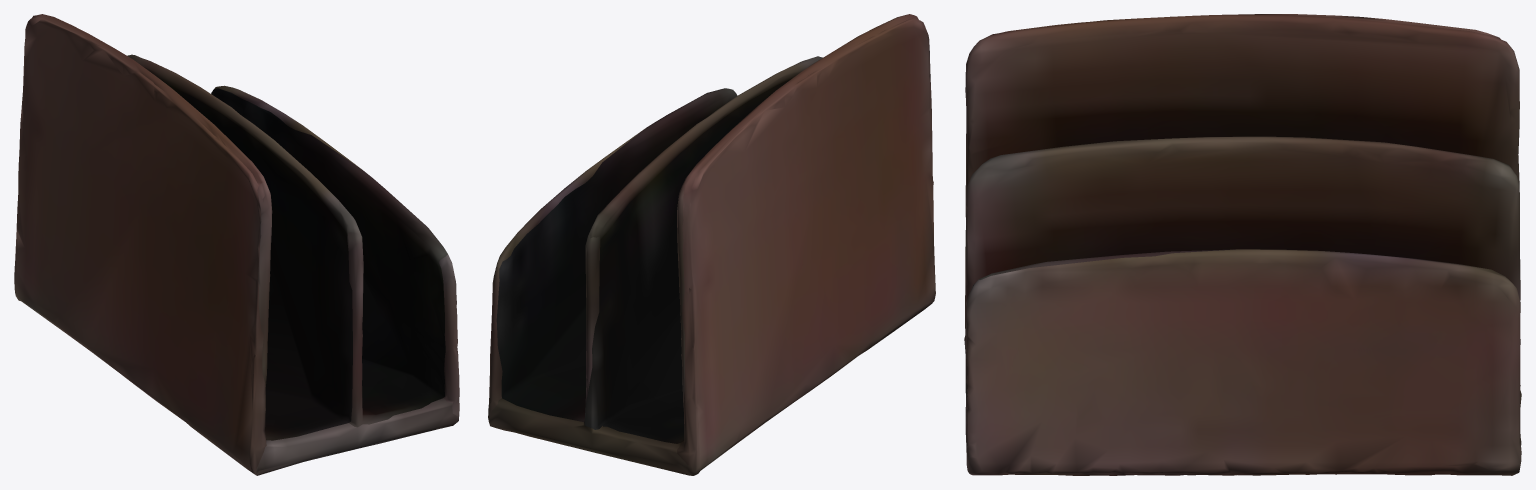
File: Markings_Letter_Holder-medium.glb
The picture shows the model from 3 angles, left to right: view 1: azimuth 30°, elevation 25°; view 2: azimuth 150°, elevation 25°; view 3: azimuth 270°, elevation 25°; orthographic projection. The views are drawn at different scales.
Parts seen in each view (by area): view 1: Markings_Letter_Holder; view 2: Markings_Letter_Holder; view 3: Markings_Letter_Holder.
Boxes of the visible parts, left/top/right/bottom form: Markings_Letter_Holder: left=14, top=14, right=459, bottom=475; Markings_Letter_Holder: left=488, top=14, right=935, bottom=475; Markings_Letter_Holder: left=964, top=14, right=1521, bottom=475.
Bounding box in the file's own units: 0.0998 × 0.1408 × 0.1984.
Materials: 1 (1 with a texture image).
